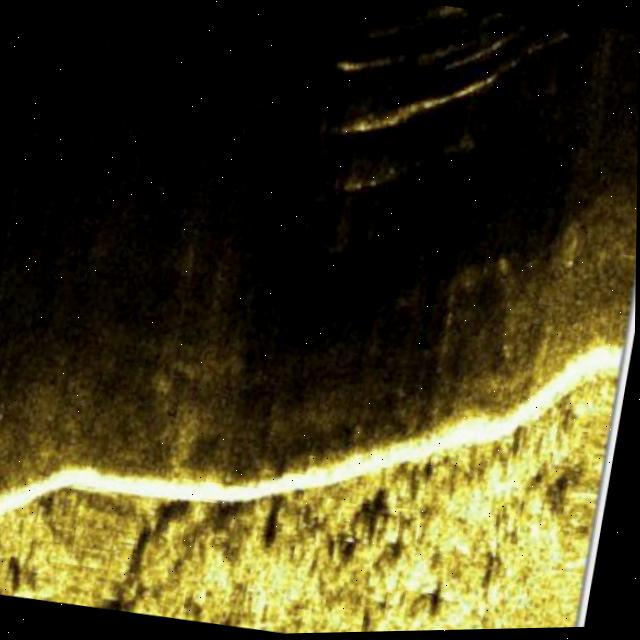bedrock group: (0, 279, 621, 640)
